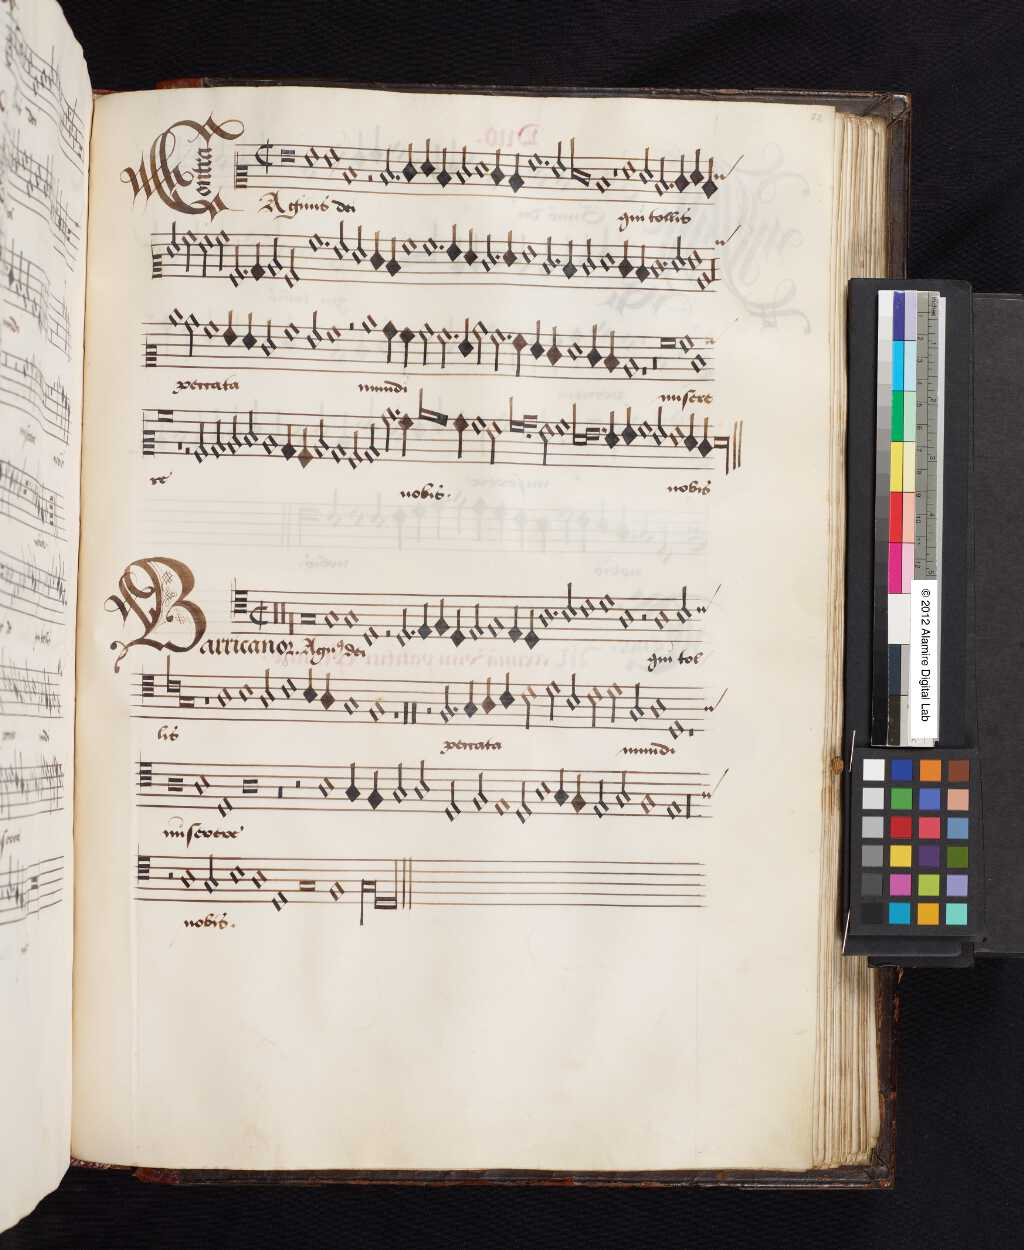c clef_9: (146, 235, 167, 292)
custos_2: (713, 228, 734, 252)
longa rest: (709, 240, 720, 298)
minim_11: (282, 237, 301, 294), (227, 233, 245, 292)
minim_4: (179, 221, 196, 276), (212, 220, 230, 275)
minim_5: (331, 212, 350, 266), (196, 224, 213, 281)
minim_6: (670, 227, 688, 279), (164, 212, 181, 264), (352, 217, 368, 269)
minim_7: (580, 226, 598, 283), (479, 224, 496, 280), (539, 226, 556, 282)
minim_9: (265, 226, 282, 281)
point: (549, 248, 564, 271), (319, 230, 333, 252), (238, 260, 252, 279), (434, 235, 447, 257), (489, 246, 503, 266), (659, 249, 669, 275)
semibreve_4: (305, 222, 326, 263), (419, 226, 438, 265), (399, 228, 419, 264)
semibreve_5: (519, 235, 540, 273), (685, 240, 704, 277)
semibreve_6: (598, 240, 618, 279)
semibreve_7: (649, 247, 665, 288)
semibreve_9: (694, 267, 716, 298)
semiminim_10: (249, 233, 267, 288)
semiminim_5: (448, 217, 464, 269)
semiminim_6: (464, 221, 480, 272), (501, 222, 511, 275)
semiminim_7: (370, 224, 387, 279), (617, 230, 635, 286), (563, 230, 580, 287)
semiminim_8: (385, 228, 403, 286), (635, 235, 652, 290)
